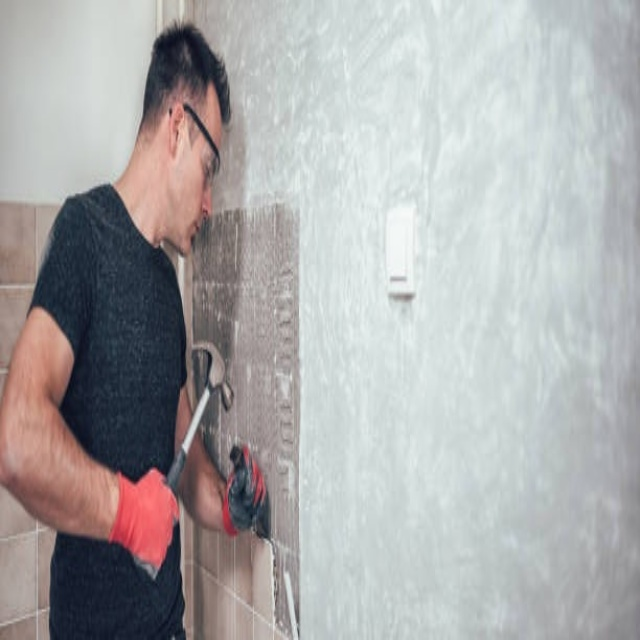Gafas: (171, 101, 221, 184)
Guantes: (109, 465, 179, 576), (223, 445, 270, 543)
Sin_mascara: (177, 205, 208, 250)
